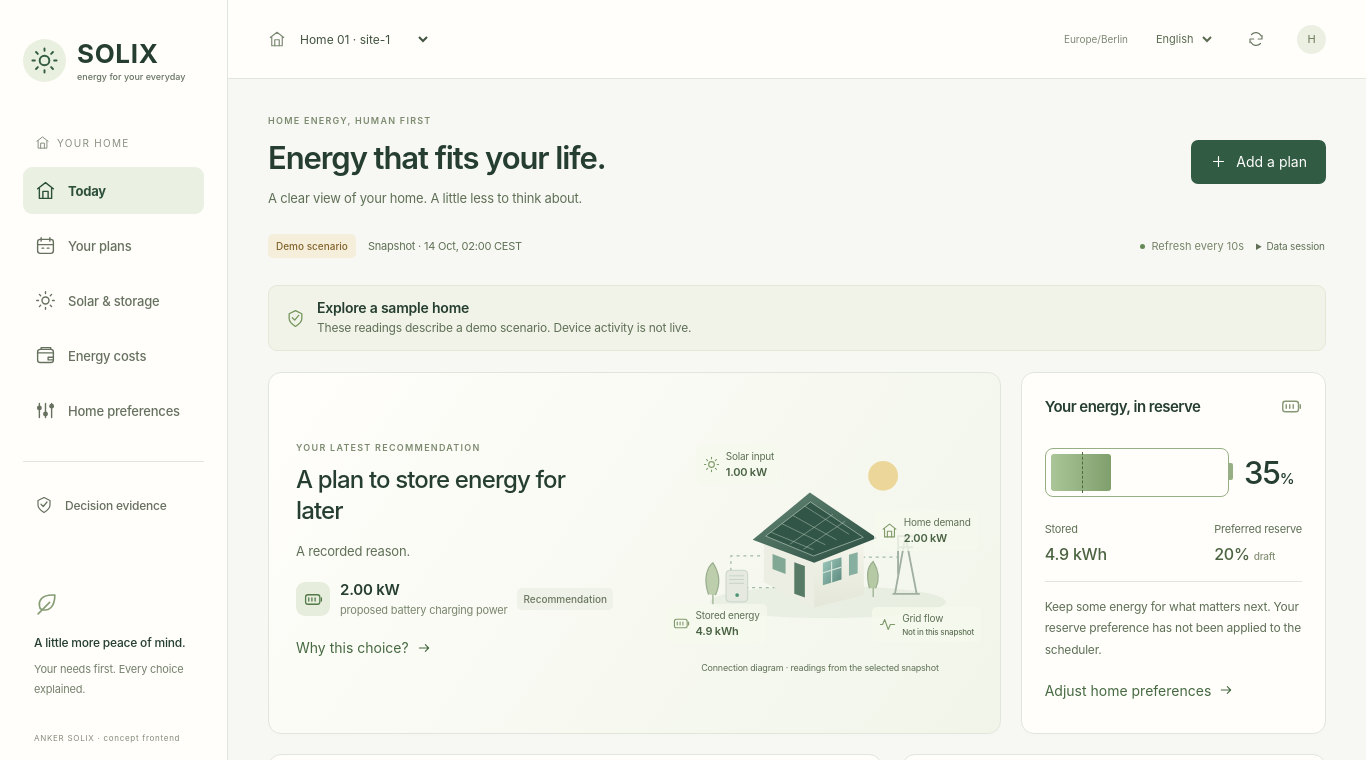
it: Household-first experience › switches household UI language and persists the preference
This screenshot has width=1366, height=760.
Expected: the text "A recorded reason." is shown, 296,543 -> 410,559
Expected: the button "Add a plan" is enabled, 1191,140 -> 1326,184
Select "中文" in the dropdown named "Language / 语言" next to "Europe/Berlin": (1181, 39) 1147,23 -> 1215,55
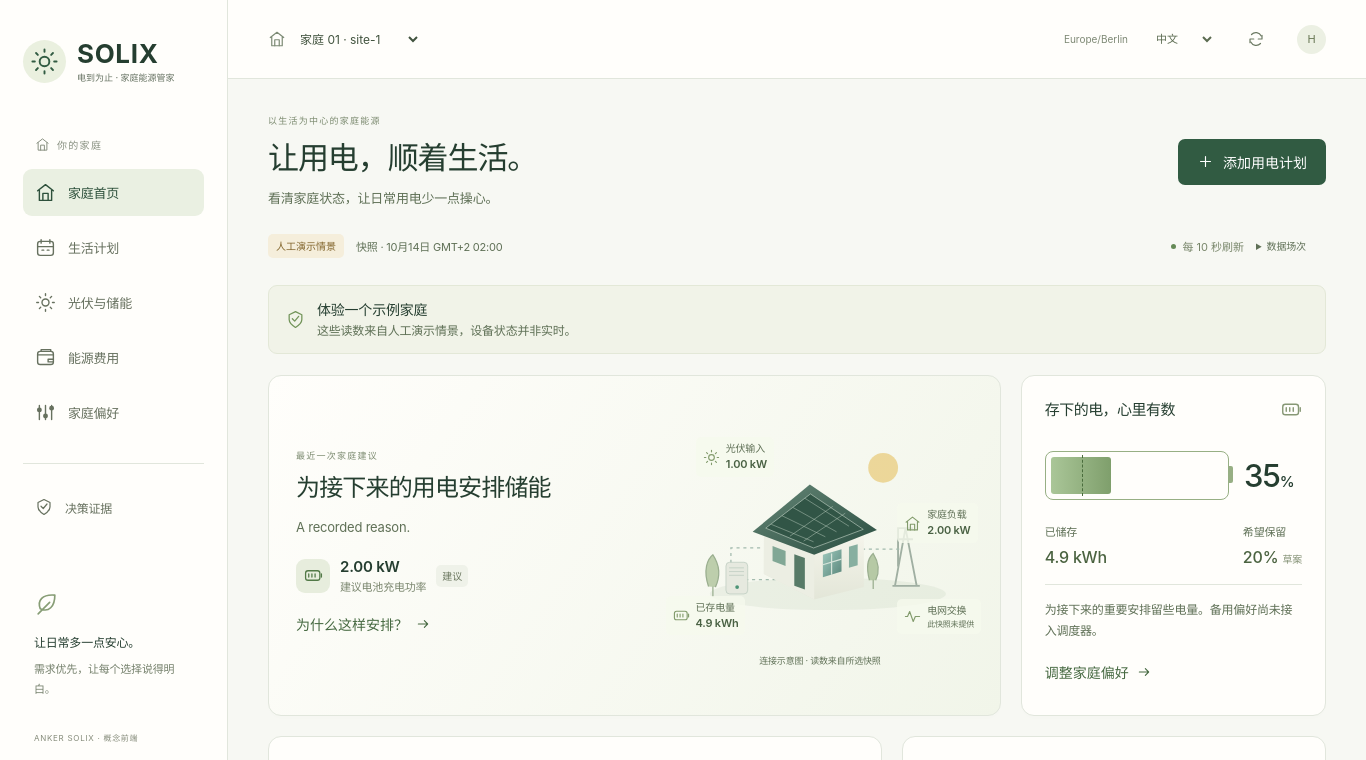
Expected: the heading "让用电，顺着生活。" is shown, 268,139 -> 537,178
